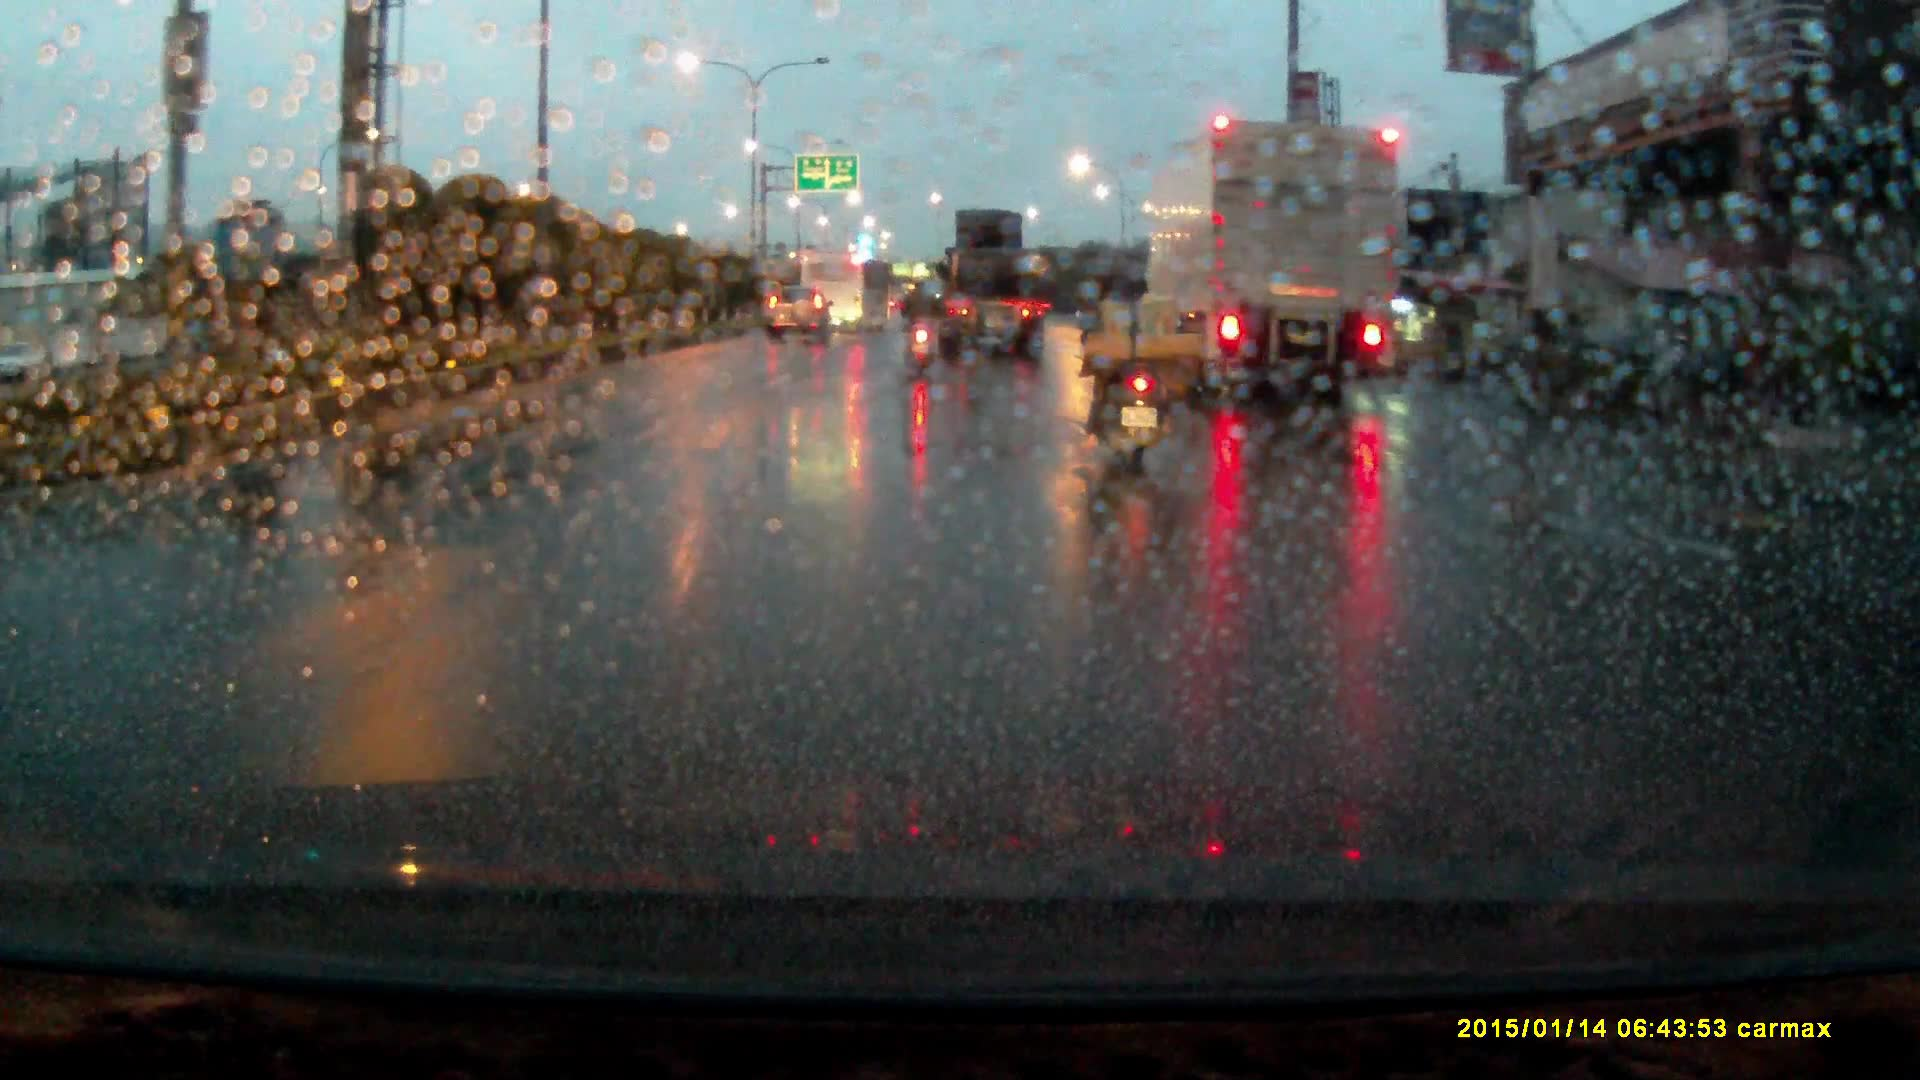rider: (1078, 253, 1181, 481), (902, 271, 942, 377)
vehicle: (1134, 117, 1402, 405), (938, 206, 1053, 365), (801, 250, 870, 333), (764, 285, 836, 350)
